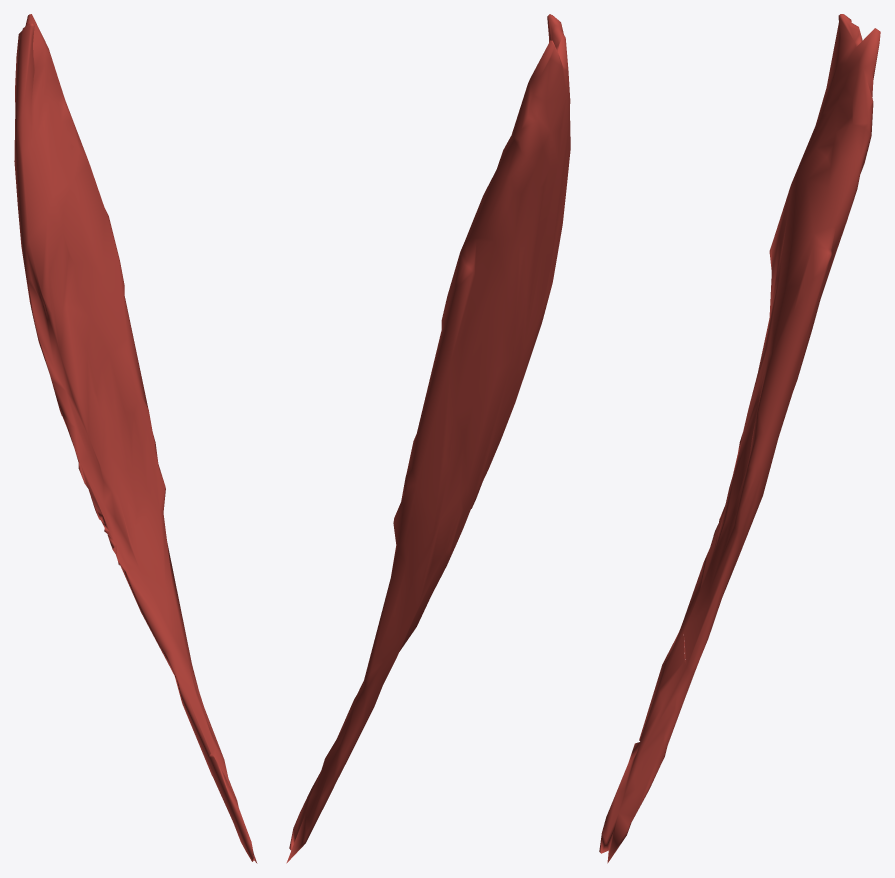
Rendered from musculos-ulnar-head-of-flexor-carpi-ulnaris-l.glb.
The picture shows the model from 3 angles, left to right: view 1: azimuth 30°, elevation 25°; view 2: azimuth 210°, elevation 25°; view 3: azimuth 270°, elevation 25°; orthographic projection. The views are drawn at different scales.
Visible parts, largest first — view 1: Ulnar head of flexor carpi ulnaris.l; view 2: Ulnar head of flexor carpi ulnaris.l; view 3: Ulnar head of flexor carpi ulnaris.l.
Part boxes in pixels (x1,y1,x2,y2): Ulnar head of flexor carpi ulnaris.l: [14, 14, 257, 863]; Ulnar head of flexor carpi ulnaris.l: [286, 14, 570, 863]; Ulnar head of flexor carpi ulnaris.l: [599, 14, 880, 863].
Bounding box in the file's own units: 0.0417 × 0.2201 × 0.0706.
